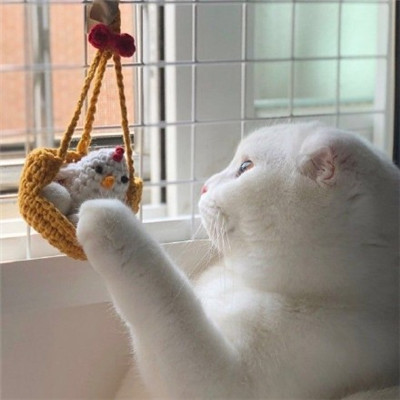cat: (184, 113, 366, 288)
